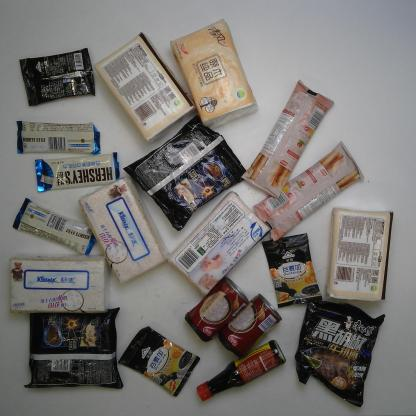Canned Food: (217, 292, 283, 359), (184, 276, 249, 343)
Chocolate: (12, 198, 97, 256), (34, 152, 120, 193), (16, 120, 101, 155)
Dessert: (240, 78, 336, 200), (252, 140, 366, 242)
Instant Drink: (118, 326, 200, 398), (262, 233, 324, 310), (19, 46, 97, 107)
Instant Noodles: (122, 114, 251, 233), (294, 297, 385, 408), (23, 306, 124, 390)
Seasoner: (196, 340, 286, 401)
Tissue: (93, 31, 196, 143), (166, 190, 271, 297), (169, 17, 258, 130), (78, 175, 168, 285), (326, 208, 394, 302), (9, 254, 110, 315)
